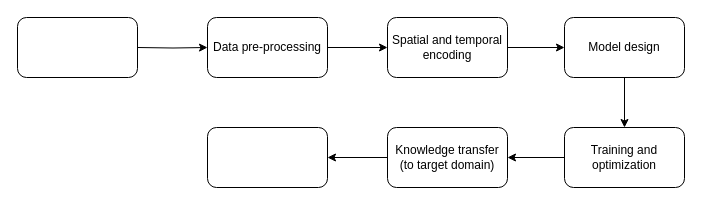
This 702x205 diagram has some shape labels left out. The shapes that lost their labels are listed below. From the top down, each one's centre as x and y in pixels, then its label:
(77,47): External (source domain) data acquisition
(267,157): Prediction
